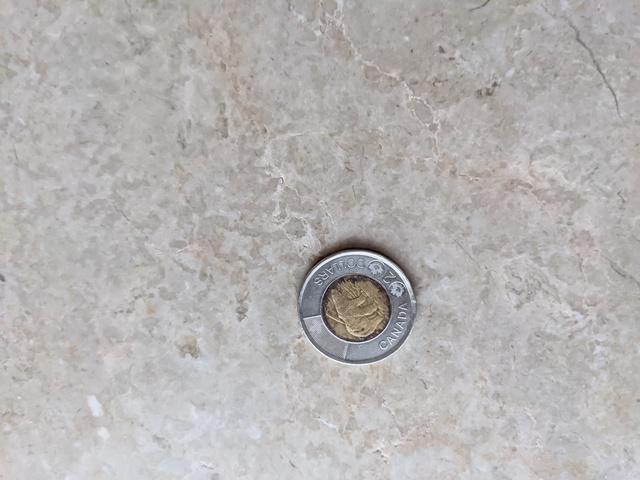twonie: (278, 232, 415, 372)
